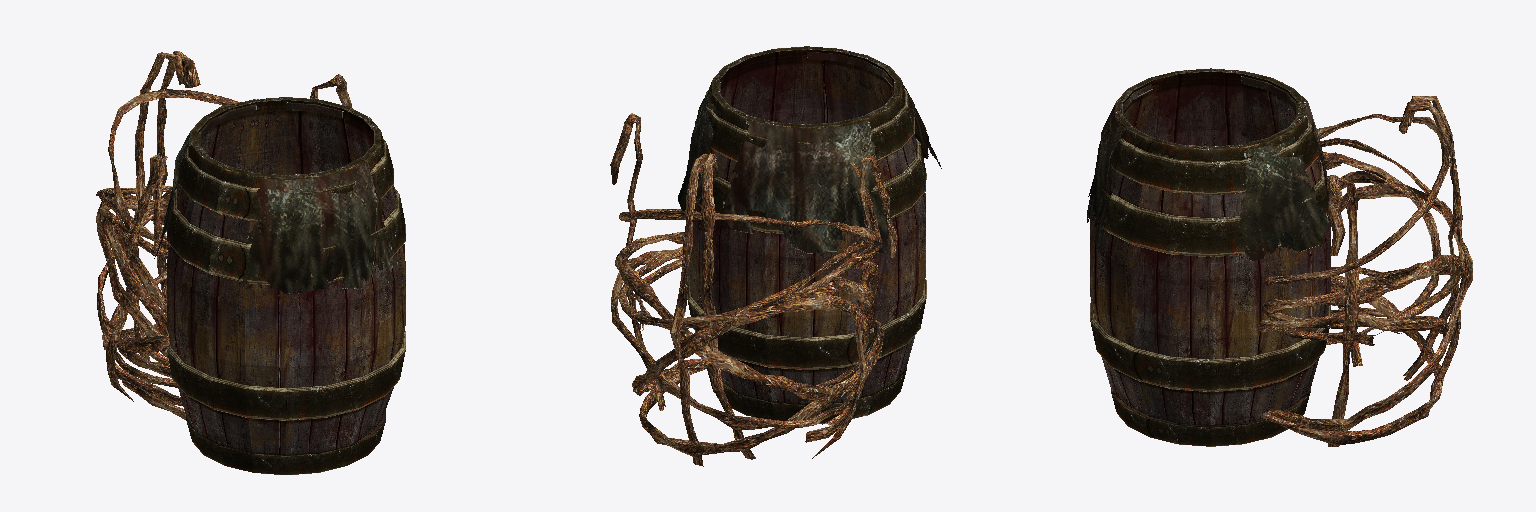
3 views of the same model, side by side, from view 1: azimuth 30°, elevation 25°; view 2: azimuth 150°, elevation 25°; view 3: azimuth 270°, elevation 25° (orthographic).
Visible parts, largest first — view 1: mesh0, mesh1, mesh2; view 2: mesh0, mesh1, mesh2; view 3: mesh0, mesh1, mesh2.
Boxes of the visible parts, x1=… form: mesh0: x1=167, y1=97, x2=405, y2=474; mesh1: x1=96, y1=51, x2=352, y2=419; mesh2: x1=154, y1=102, x2=400, y2=294; mesh0: x1=687, y1=46, x2=926, y2=423; mesh1: x1=610, y1=113, x2=897, y2=466; mesh2: x1=678, y1=52, x2=941, y2=253; mesh0: x1=1090, y1=68, x2=1330, y2=446; mesh1: x1=1259, y1=82, x2=1472, y2=446; mesh2: x1=1087, y1=76, x2=1329, y2=260.
Bounding box in the file's own units: 1.27 × 1.46 × 1.66.
Materials: 3 (3 with a texture image).